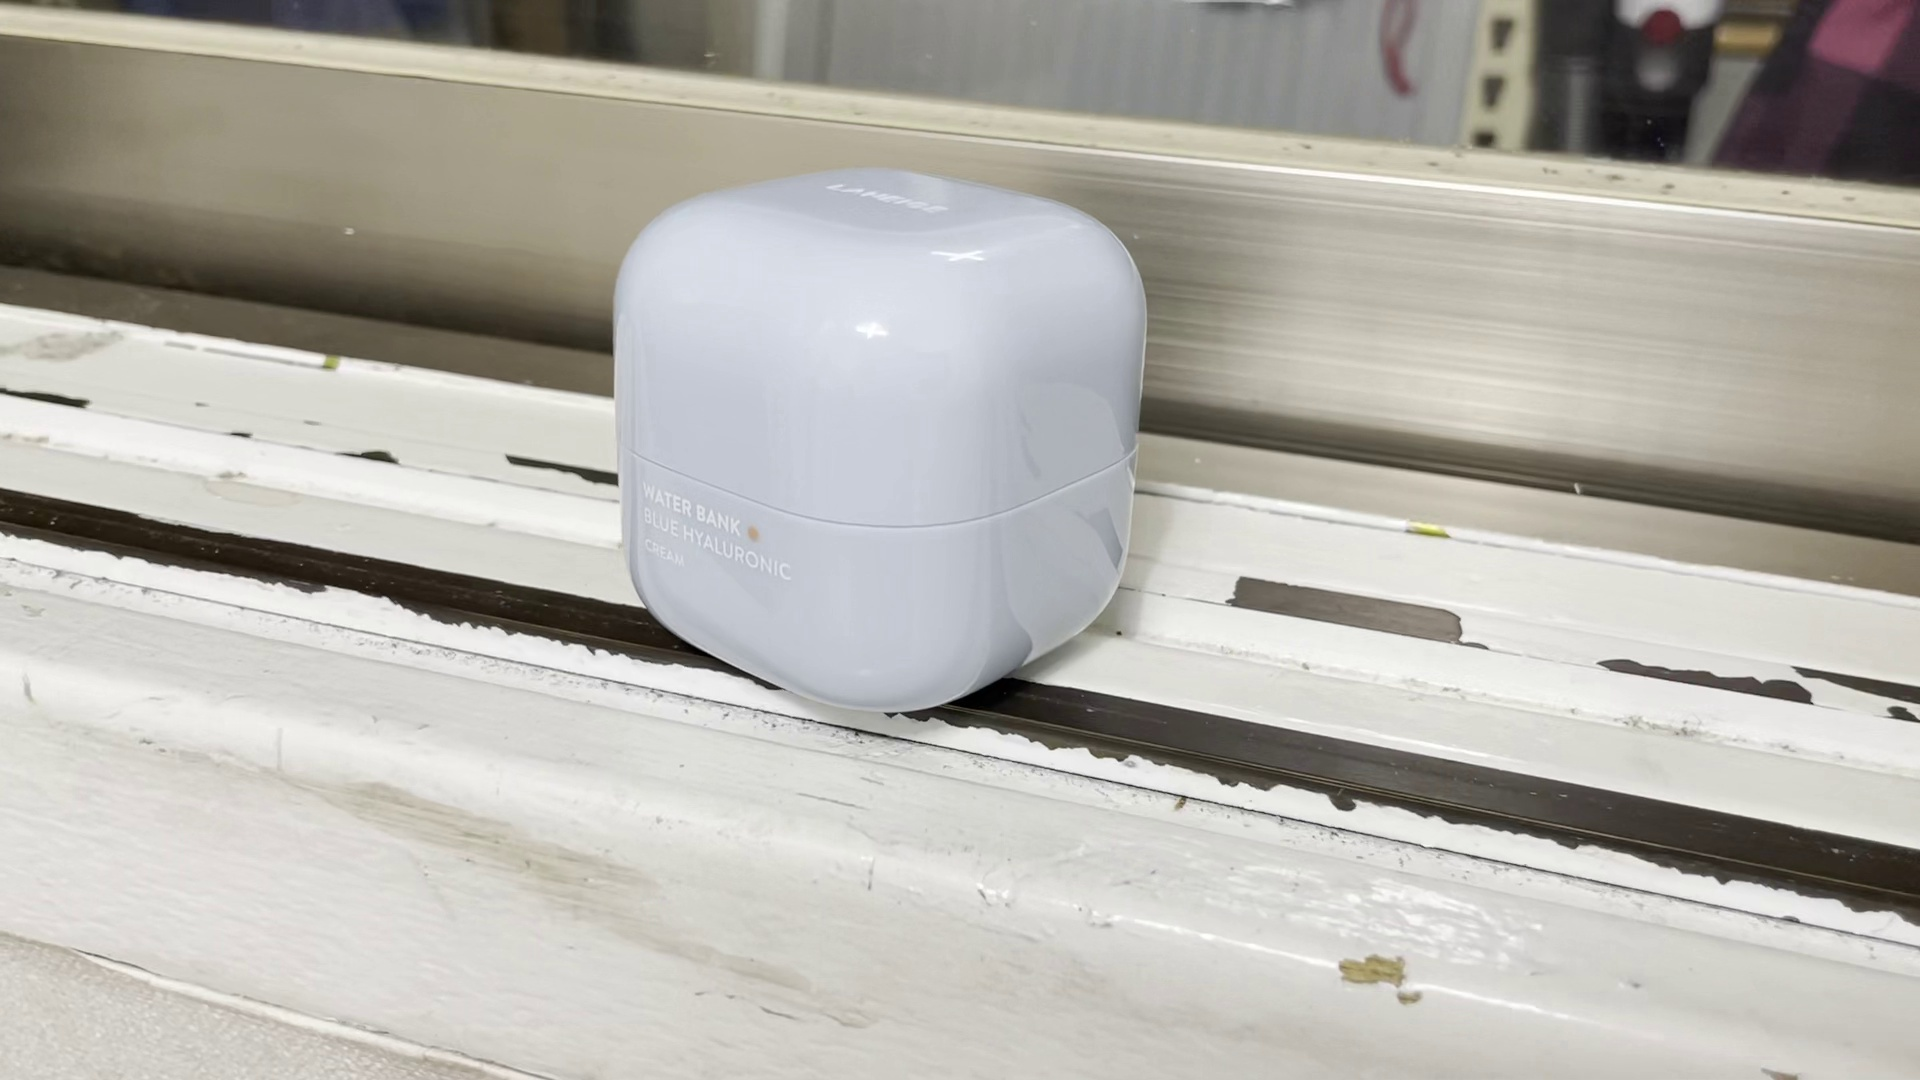cream: (612, 162, 1145, 707)
